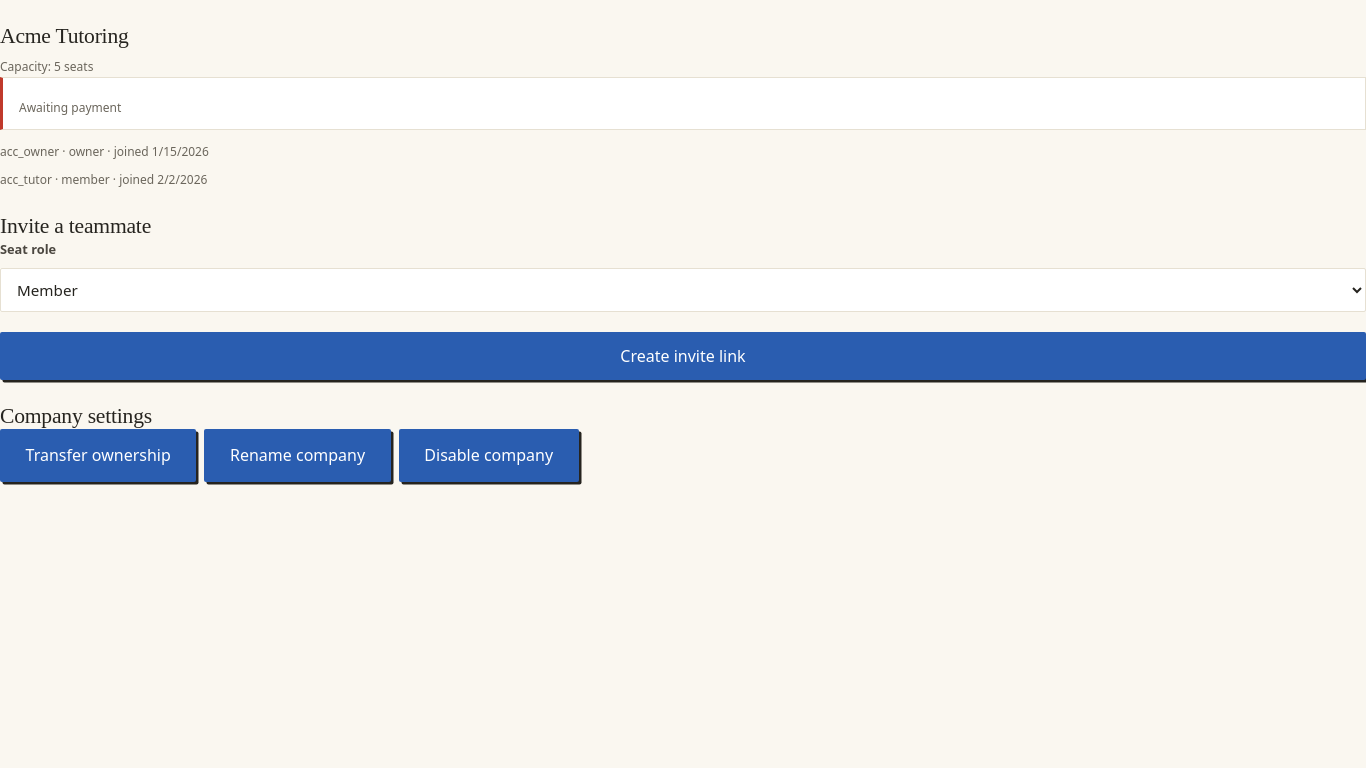
CompanyAdminPanel destructive actions › transfers ownership through POST /api/company/owner behind a real confirmation
Expected: the element with test id "company-summary" is shown, [0,24,1365,190]
Click the button with test id "company-transfer" at [98, 456], box [0,429,196,482]
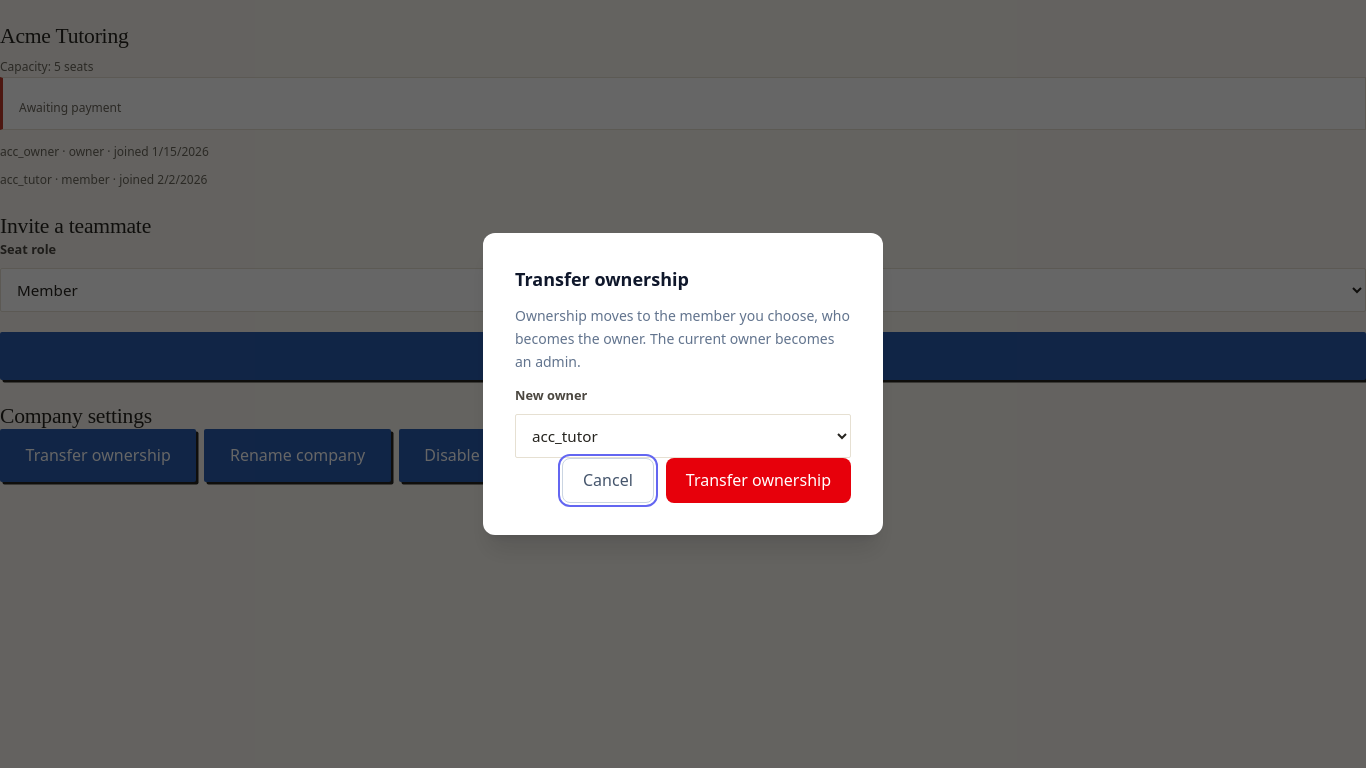
Expected: the dialog "Transfer ownership" is shown, [483,233,883,535]
Expected: the dropdown with test id "company-transfer-target" shows "acc_tutor", [515,414,851,458]
Click the button with test id "company-transfer-confirm" at [758, 481], box [666,458,851,503]
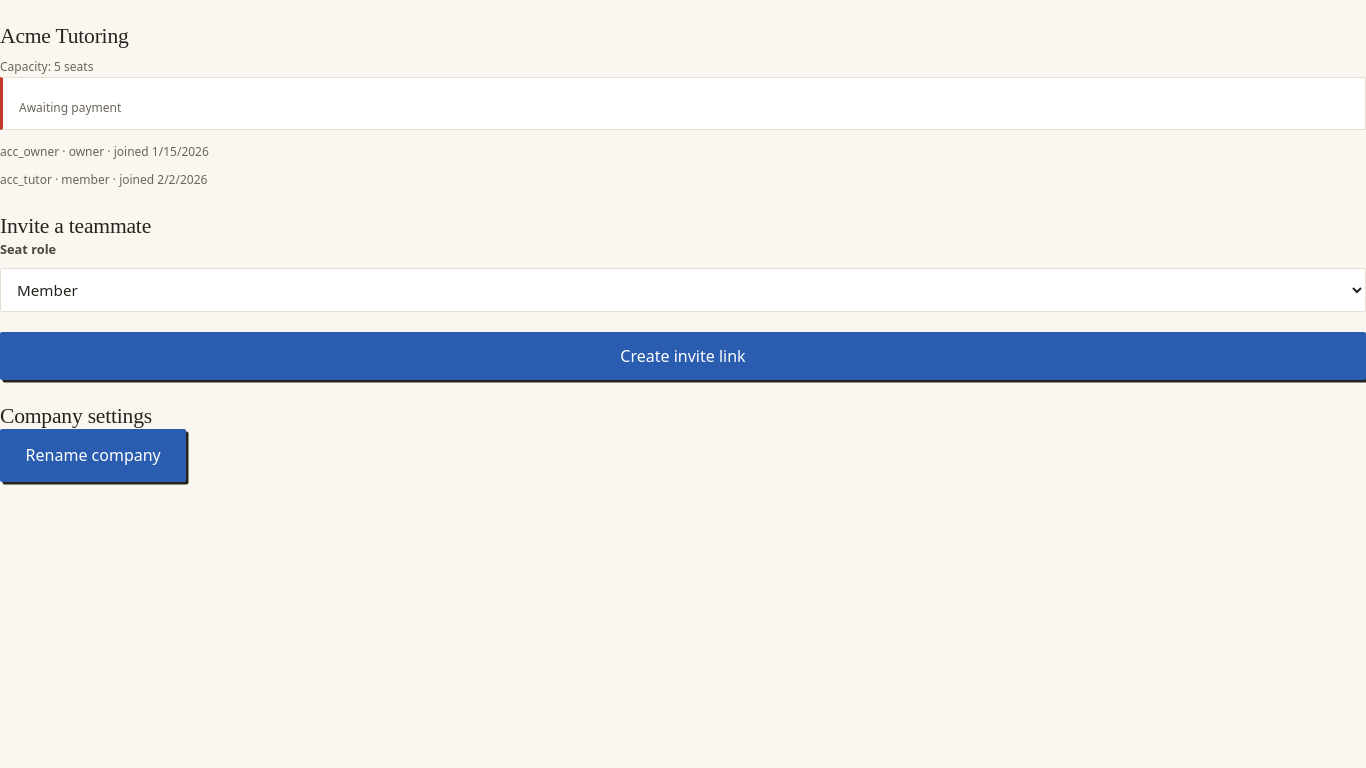
Expected: the dialog is gone
Expected: the button with test id "company-transfer" is gone
